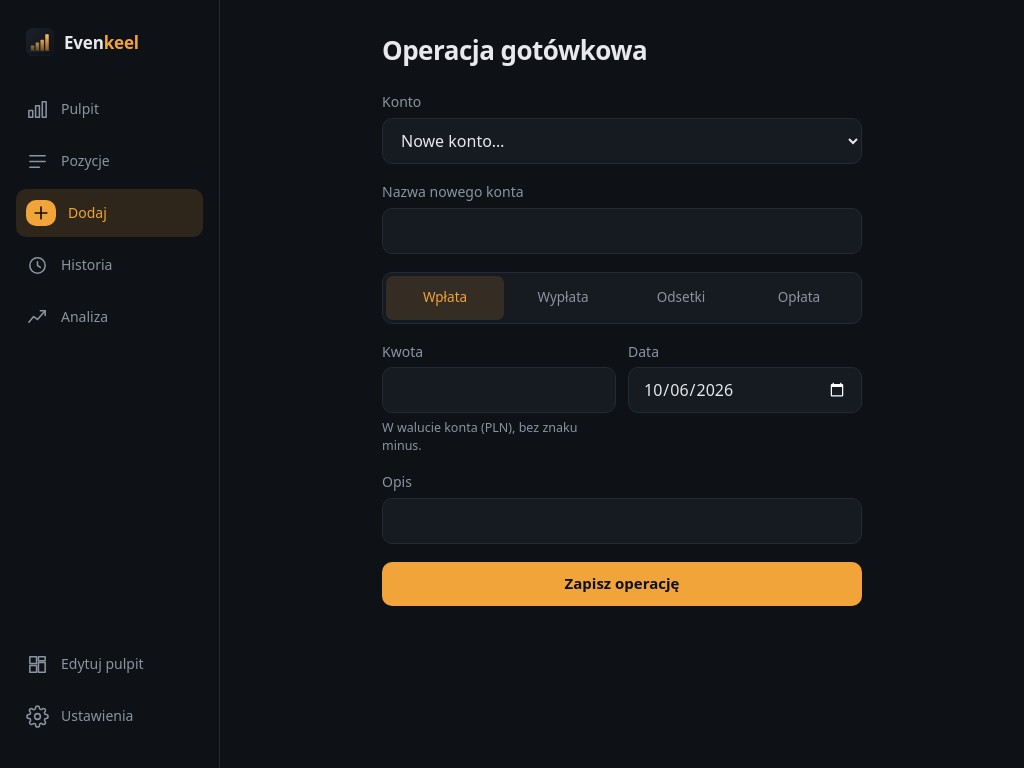
cash operation form › creates the first cash account and saves a withdrawal on it
Type "Portfel domowy" into the field labelled "Nazwa nowego konta" at (622, 231), box [382,208,862,254]
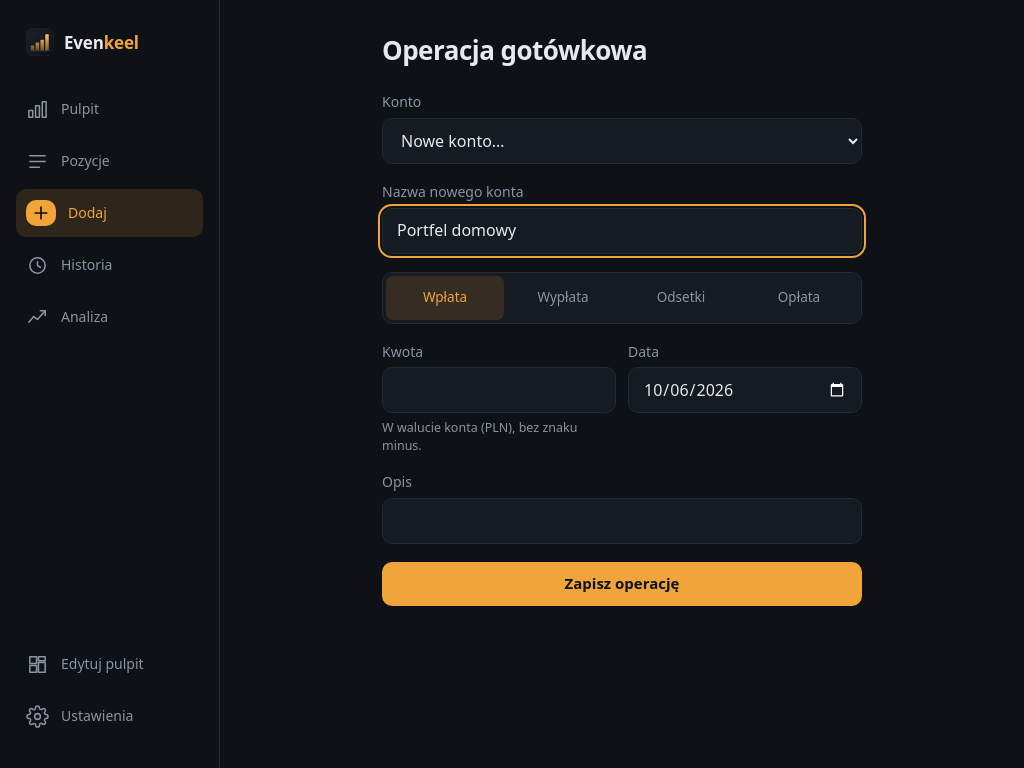
Click the button "Wypłata" at (563, 298), box [504,276,622,320]
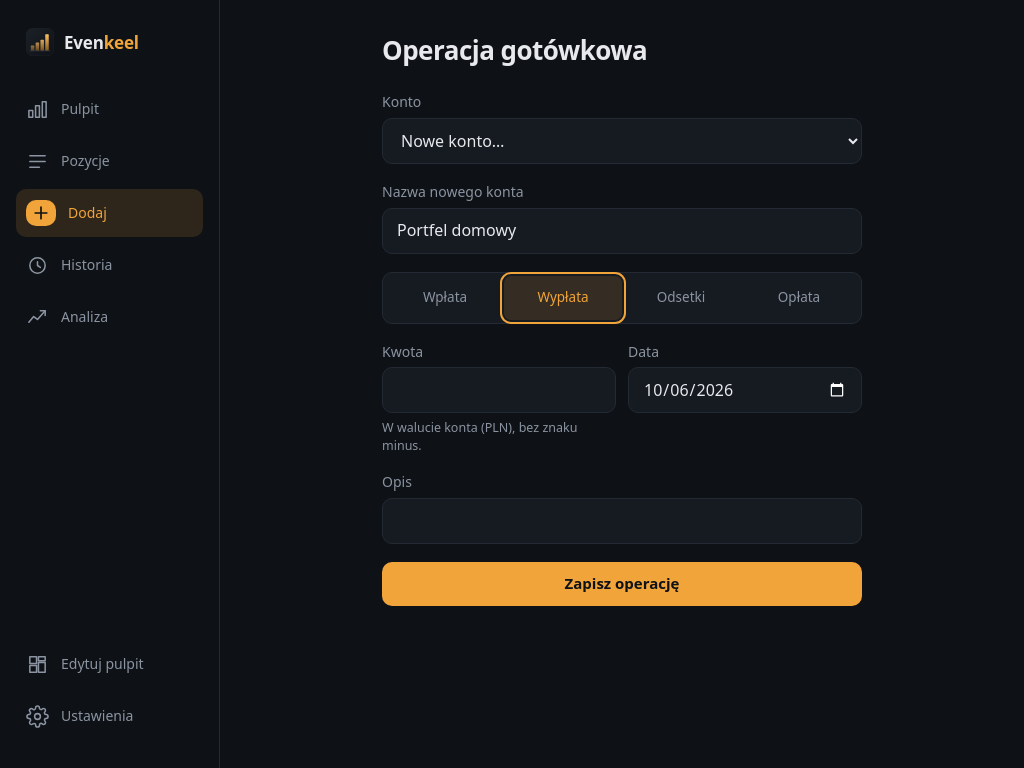
Type "1 234,5" into the field labelled "Kwota" at (499, 390), box [382,367,616,413]
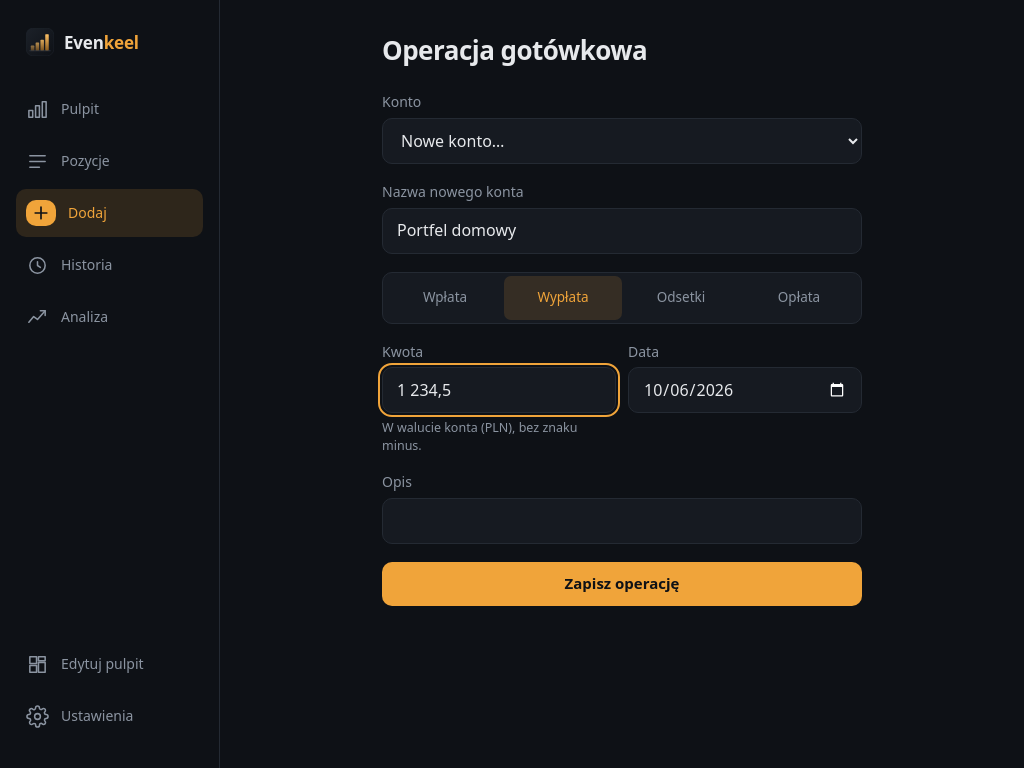
Type "remont" into the field labelled "Opis" at (622, 521), box [382,498,862,544]
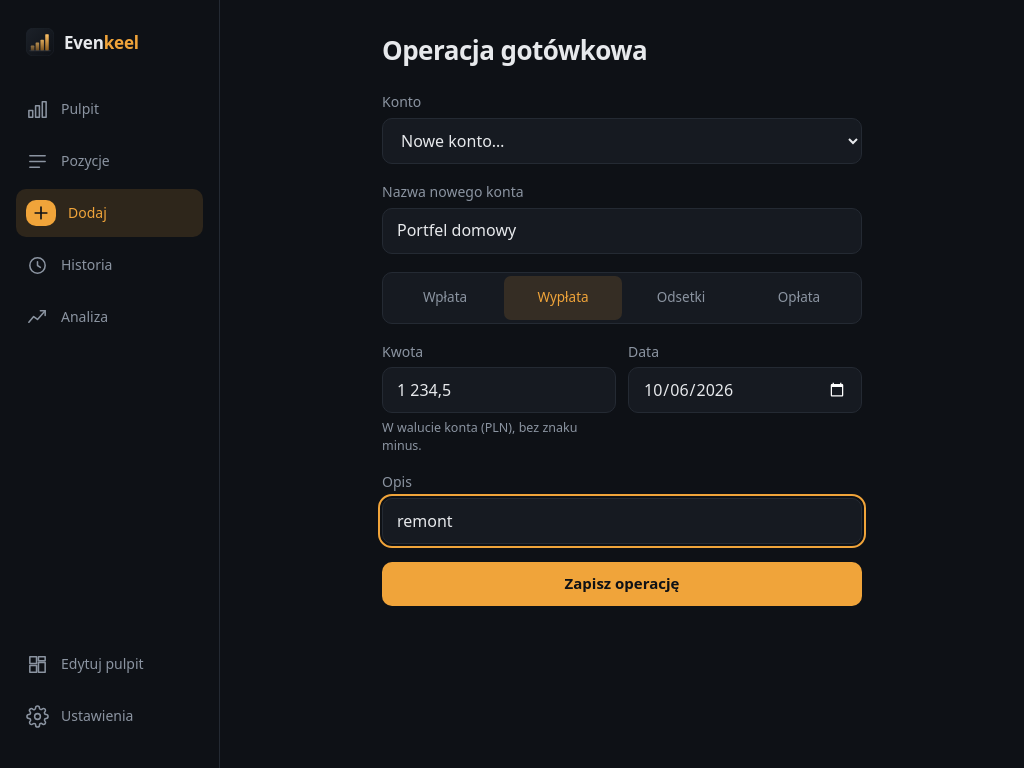
Click the button "Zapisz operację" at (622, 584), box [382,562,862,606]
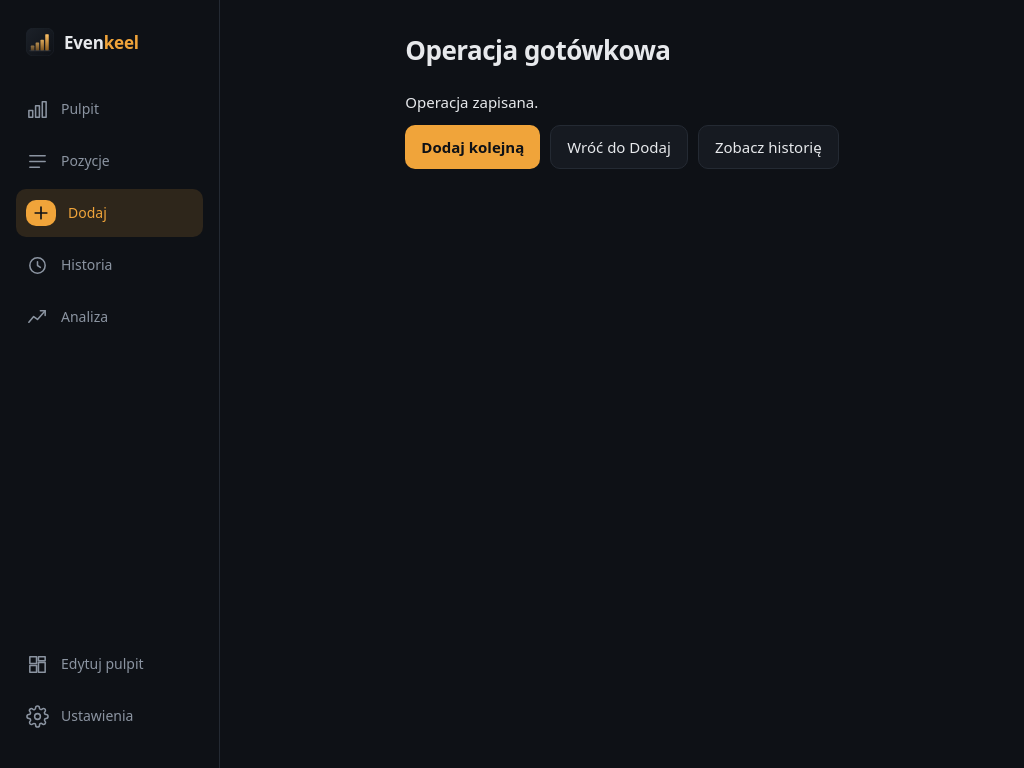
Expected: the text "Operacja zapisana." is shown, [405,92,538,113]
